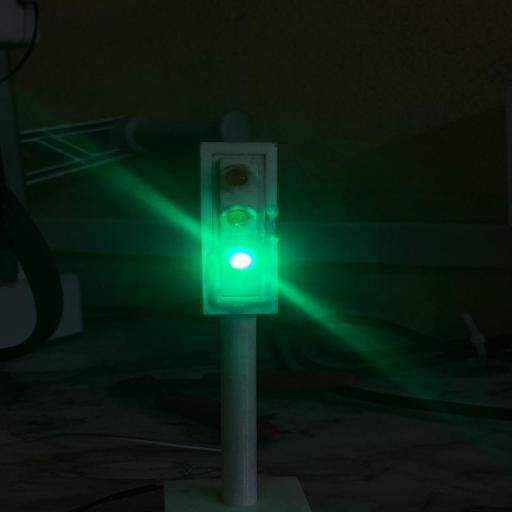Green Light: (230, 252, 252, 269)
